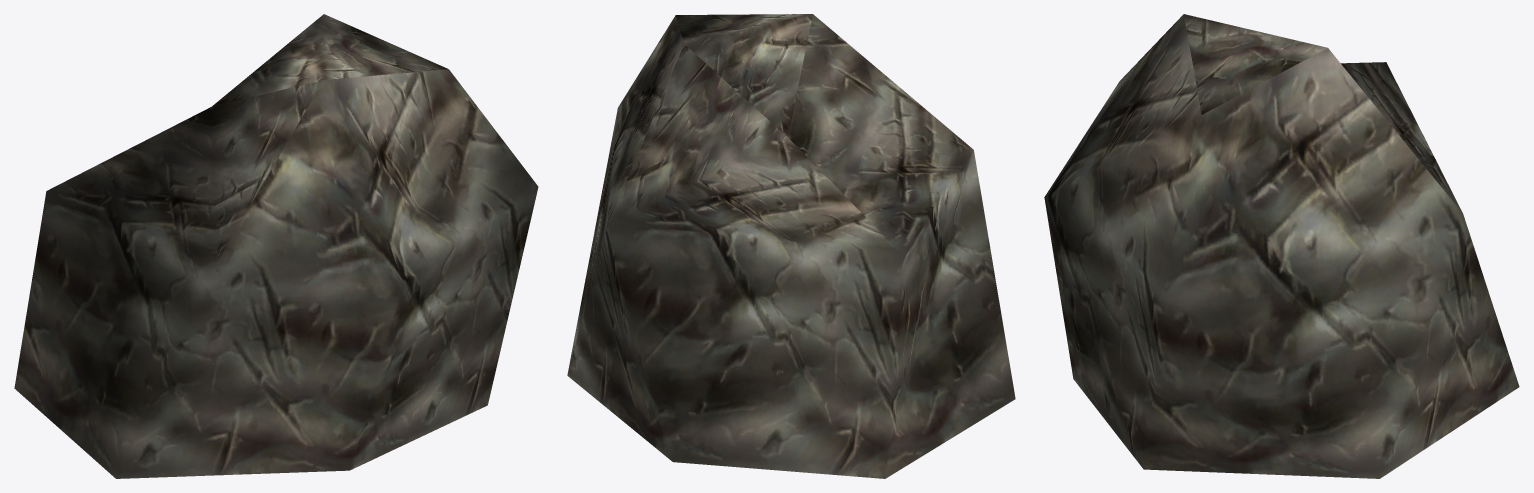
File: ogremoundrock03.glb
The picture shows the model from 3 angles, left to right: view 1: azimuth 30°, elevation 25°; view 2: azimuth 150°, elevation 25°; view 3: azimuth 270°, elevation 25°; orthographic projection. The views are drawn at different scales.
Bounding box in the file's own units: 16.15 × 12.92 × 14.66.
Materials: 1 (1 with a texture image).
